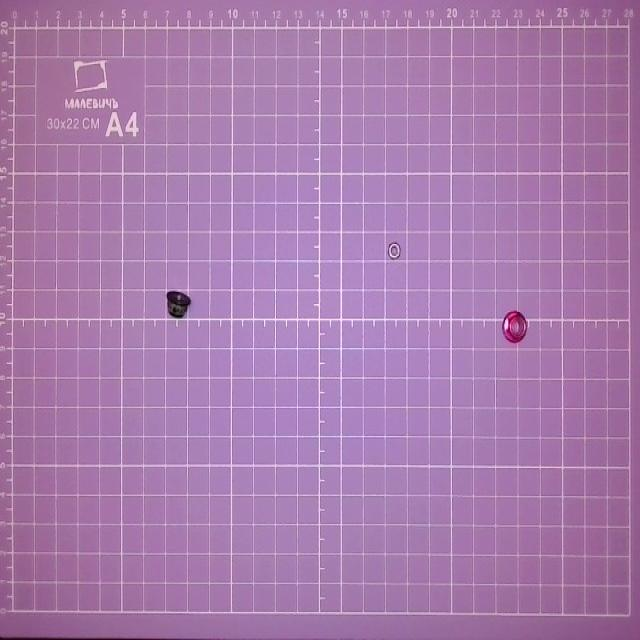screw_M3: (387, 239, 402, 263)
screw_M5: (167, 276, 191, 328), (503, 308, 526, 348)
